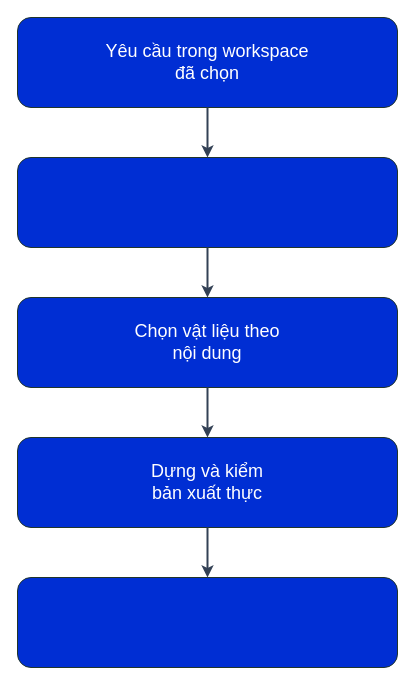
Image size: 415x685. Some labels were removed from this diagram. Here are the shapes that lost their labels. From the top down, the centre of each, then its label:
(207,202): Đọc bộ thiết kế và giọng phù hợp
(207,622): Bàn giao trong quyền được cấp
